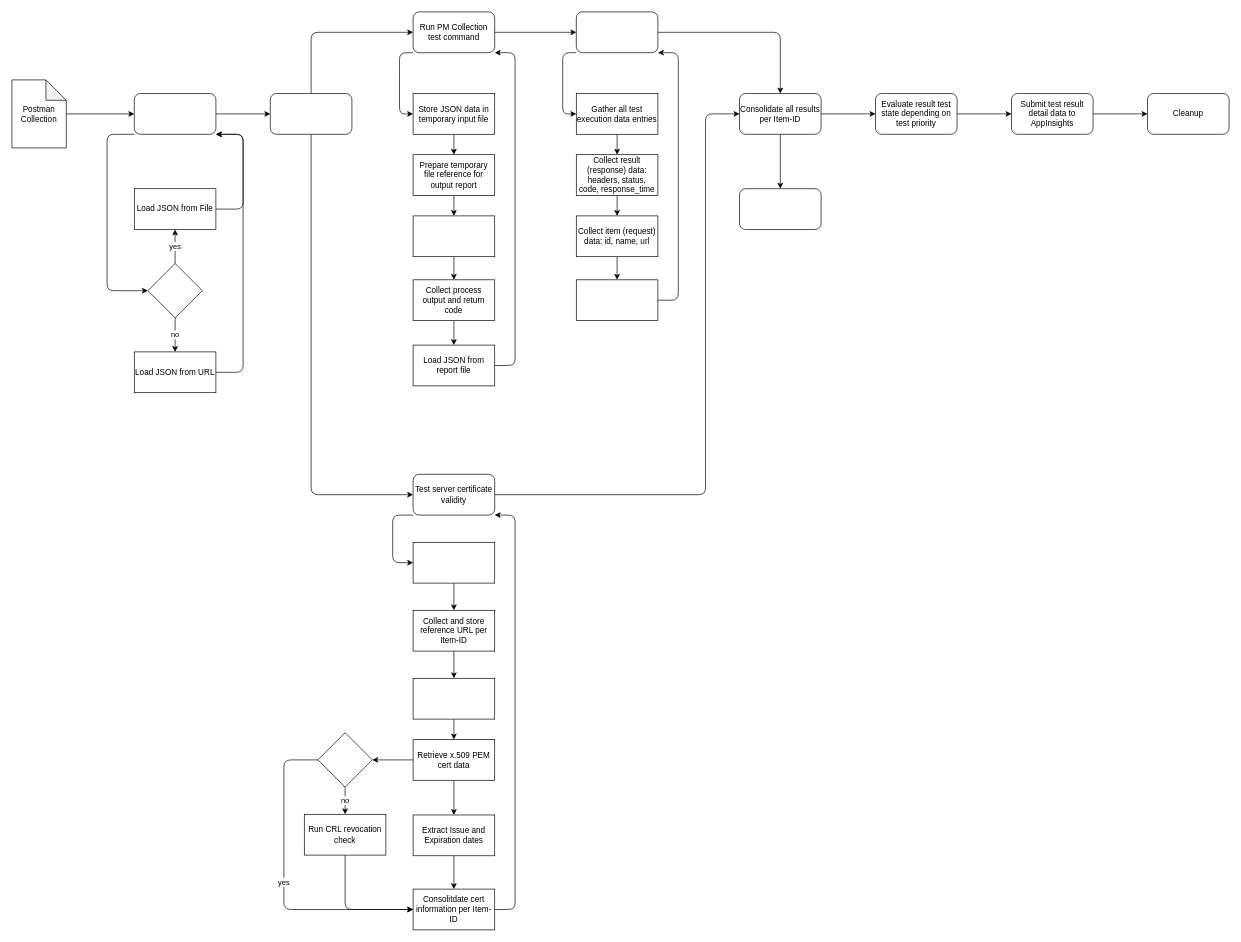
Image size: 1241x942. Some labels were removed from this diagram. The shapes that lost their labels are listed below. From the top down, each one's centre as x and y in pixels, then its label:
At (617,32): "Collect and store report output results per Item-ID".
At (175,113): "Load JSON reference".
At (311,113): "Handle loaded JSON data".
At (780,209): "Patch Naming of tests to include subfolder / ... / request".
At (453,236): "Execute subprocess with input and report file references".
At (174,290): "is_local_file".
At (617,300): "Merge & Store information per Item-ID in map".
At (453,562): "Extract URL per Item-ID".
At (453,698): "Init Socket connect to to SSL enabled URLs".
At (344,759): "is_self_signed".
